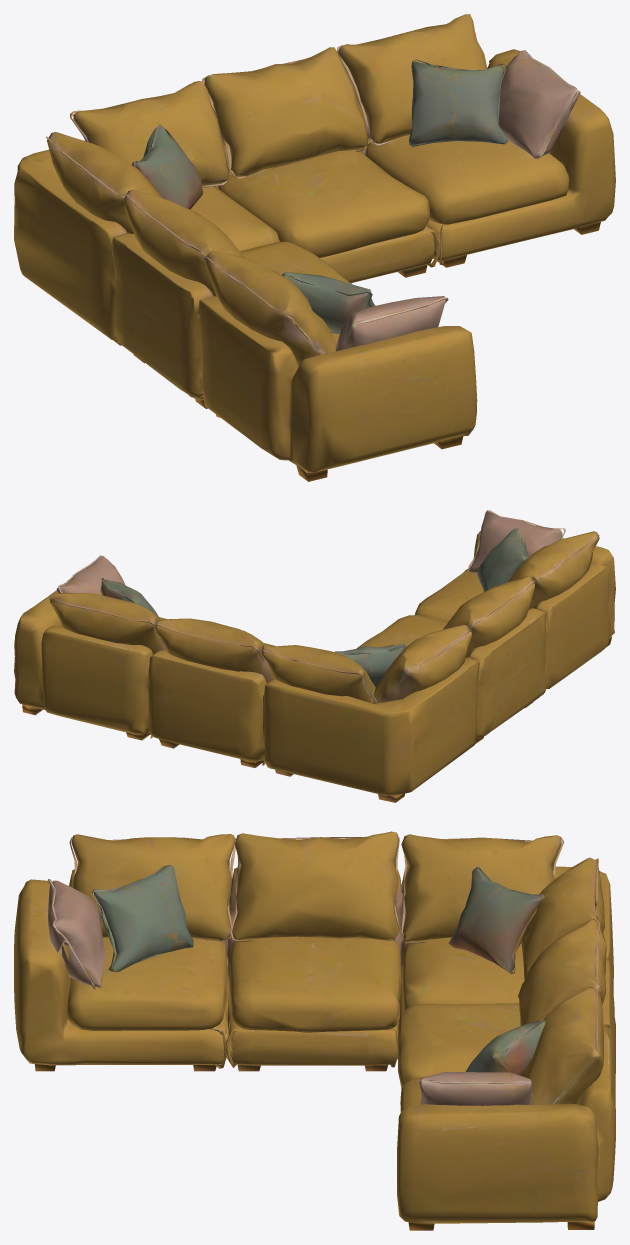
Rendered from sofa_sectional.glb.
3 views of the same model, one above another, from view 1: azimuth 30°, elevation 25°; view 2: azimuth 150°, elevation 25°; view 3: azimuth 270°, elevation 25° (orthographic). The views are drawn at different scales.
Parts seen in each view (by area): view 1: prop; view 2: prop; view 3: prop.
Part boxes in pixels (x1,y1,x2,y2): prop: [14, 14, 615, 481]; prop: [14, 510, 615, 802]; prop: [14, 831, 615, 1230].
Size of the model in its own units: 2.8 by 0.8464 by 2.8.
Materials: 1 (1 with a texture image).
